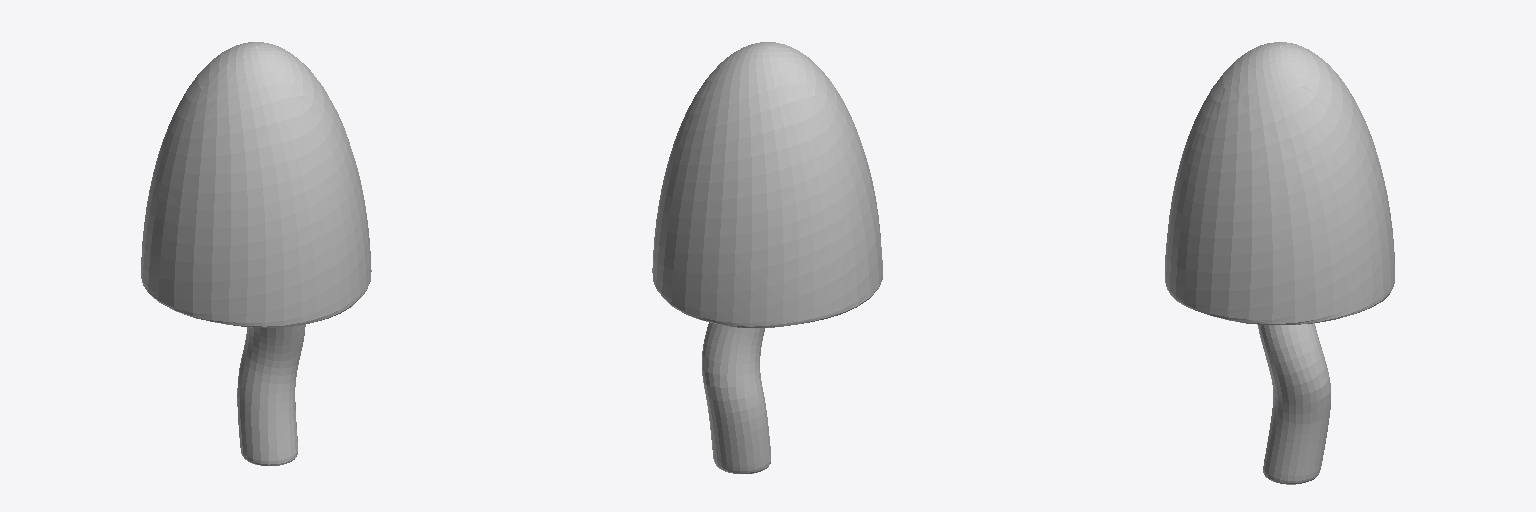
Rendered from Mushroom_2.obj.
3 views of the same model, side by side, from view 1: azimuth 30°, elevation 25°; view 2: azimuth 150°, elevation 25°; view 3: azimuth 270°, elevation 25° (orthographic).
Visible parts, largest first — view 1: pSphere1, pCylinder1; view 2: pSphere1, pCylinder1; view 3: pSphere1, pCylinder1.
Part boxes in pixels (bbox=[...]): pSphere1: bbox=[141, 42, 371, 327]; pCylinder1: bbox=[237, 324, 305, 465]; pSphere1: bbox=[652, 42, 882, 328]; pCylinder1: bbox=[702, 322, 770, 473]; pSphere1: bbox=[1165, 42, 1394, 324]; pCylinder1: bbox=[1257, 323, 1330, 484].
Size of the model in its own units: 47.53 by 95.3 by 47.52.